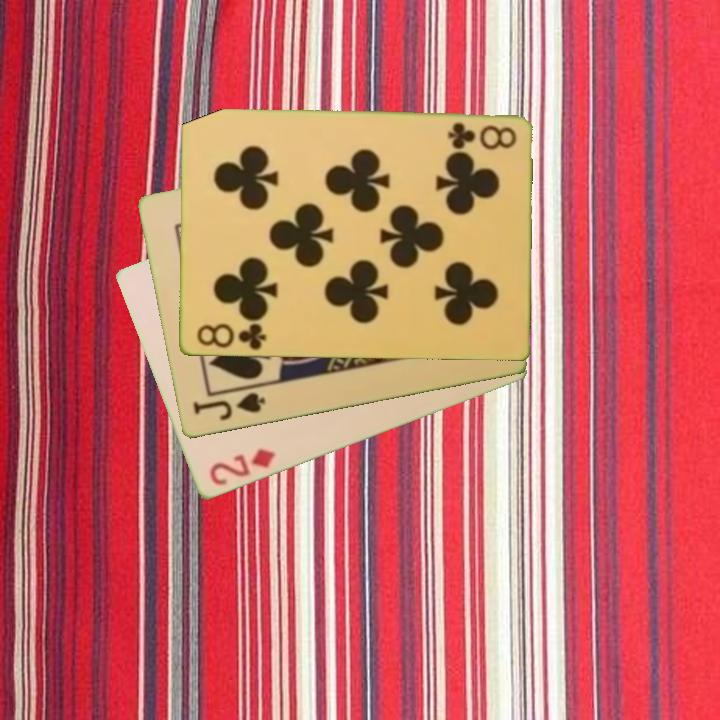2d: (205, 445, 278, 489)
8c: (193, 320, 269, 353), (444, 119, 519, 151)
Js: (189, 389, 268, 424)
